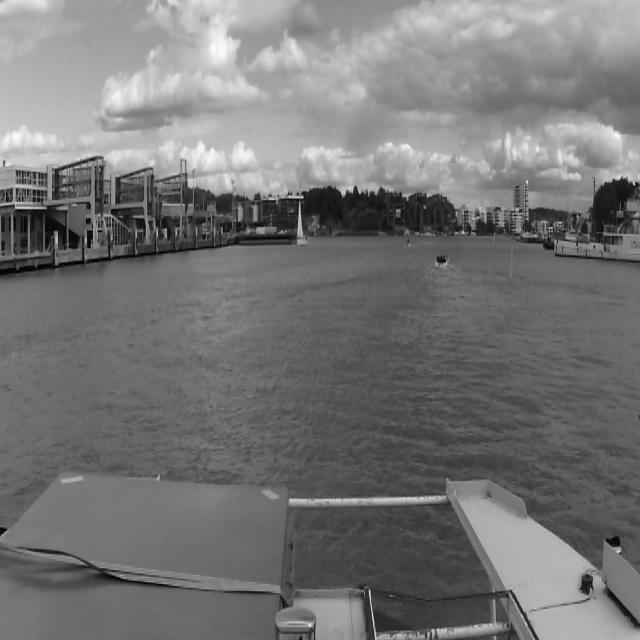buoy: (506, 238, 516, 312), (510, 249, 512, 279)
ship: (554, 192, 636, 262), (296, 199, 306, 246), (521, 230, 543, 243), (435, 256, 447, 268), (404, 238, 412, 246)
